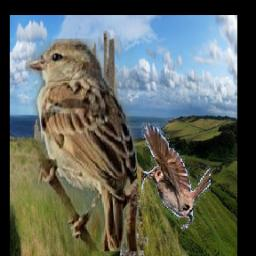Sparrow: (27, 39, 138, 251), (141, 122, 211, 230)
